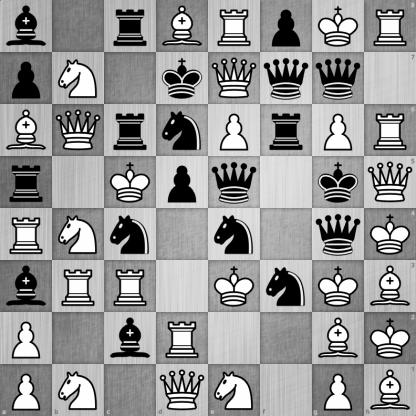B: (364, 260, 416, 312), (364, 364, 416, 416), (1, 105, 52, 156), (157, 1, 208, 52), (313, 313, 364, 364)
K: (364, 312, 416, 364), (364, 209, 416, 260), (105, 157, 156, 208), (209, 261, 260, 312), (313, 1, 364, 52), (313, 261, 364, 312)
N: (52, 364, 104, 416), (209, 364, 260, 416), (53, 53, 104, 104), (53, 209, 104, 260)
P: (0, 364, 52, 416), (312, 364, 364, 416), (1, 313, 52, 364), (209, 105, 260, 156), (313, 105, 364, 156)
Q: (156, 364, 209, 416), (364, 156, 416, 209), (53, 105, 104, 156), (209, 53, 260, 104)
R: (364, 0, 416, 52), (364, 104, 416, 156), (1, 209, 52, 260), (53, 261, 104, 312), (105, 261, 156, 312), (157, 313, 208, 364), (209, 1, 260, 52)
b: (1, 1, 52, 52), (1, 261, 52, 312), (105, 313, 156, 364)
board: (0, 0, 415, 415)
k: (157, 53, 208, 104), (313, 157, 364, 208)
n: (105, 209, 156, 260), (157, 105, 208, 156), (209, 209, 260, 260), (261, 261, 312, 312)
p: (1, 53, 52, 104), (157, 157, 208, 208), (261, 1, 312, 52)
q: (209, 157, 260, 208), (261, 53, 312, 104), (313, 53, 364, 104), (313, 209, 364, 260)
r: (1, 157, 52, 208), (105, 1, 156, 52), (105, 105, 156, 156), (261, 105, 312, 156)
